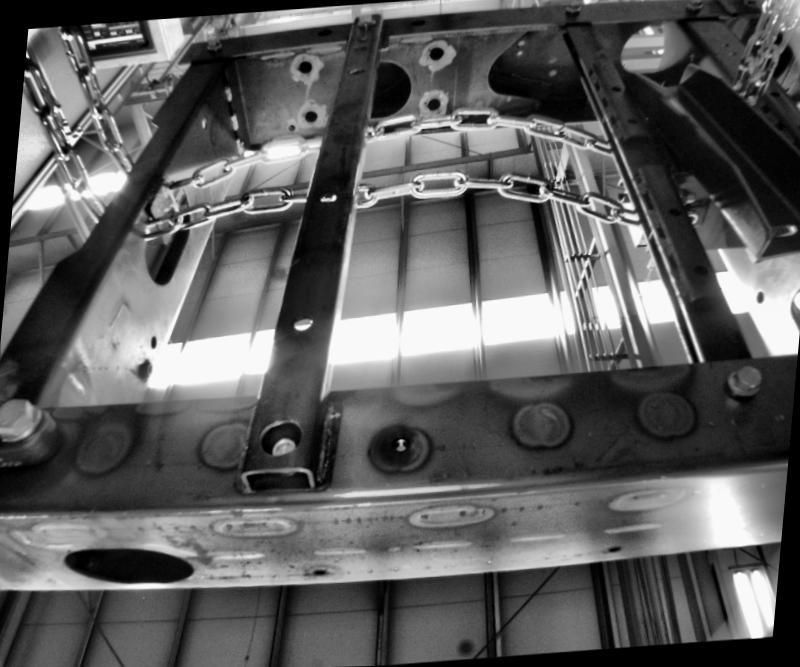bolt: (0, 393, 44, 456), (720, 367, 767, 401), (131, 360, 154, 386), (558, 0, 584, 16), (202, 40, 222, 56), (682, 0, 703, 15), (353, 16, 374, 28)
bracket: (141, 170, 191, 253)
hole: (48, 538, 208, 597), (610, 19, 669, 78), (260, 419, 302, 461), (286, 315, 314, 340), (384, 436, 410, 460), (314, 193, 338, 208), (293, 62, 312, 78), (420, 99, 439, 115), (300, 110, 317, 127), (663, 206, 680, 222), (690, 266, 706, 281), (344, 67, 364, 79), (749, 292, 765, 307), (426, 50, 442, 63), (314, 29, 334, 39), (604, 546, 620, 558), (310, 568, 326, 579), (607, 86, 620, 97), (408, 20, 424, 28), (148, 338, 158, 350), (790, 124, 799, 137), (624, 118, 635, 127), (355, 36, 366, 45), (766, 93, 777, 100), (716, 42, 728, 48), (286, 126, 294, 133), (724, 53, 734, 58)
welding: (218, 86, 234, 106), (226, 115, 239, 132), (232, 140, 244, 158)
